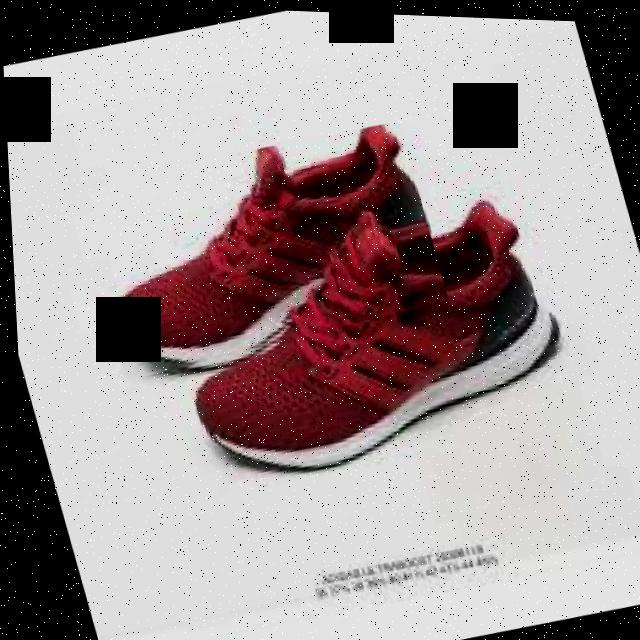shoe: (149, 176, 604, 500), (64, 108, 453, 390)
